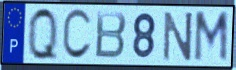8: (131, 11, 158, 61)
B: (94, 10, 128, 61)
C: (61, 7, 94, 62)
M: (192, 10, 230, 65)
N: (162, 10, 195, 62)
Q: (26, 5, 60, 64)
